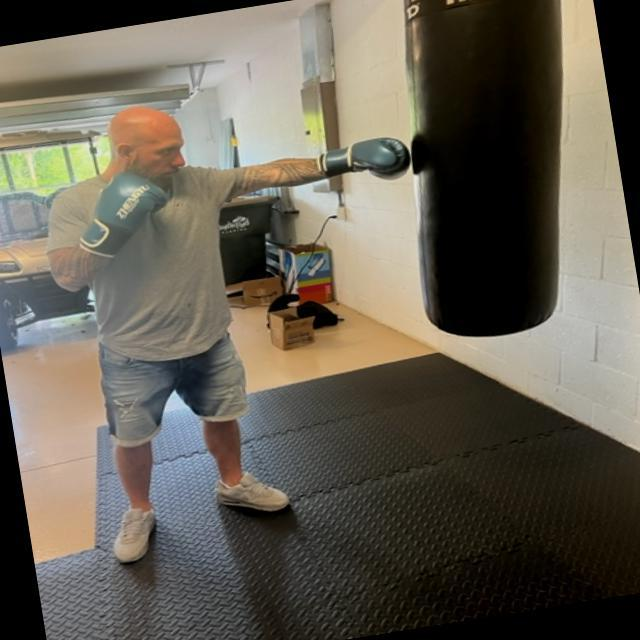jab: (26, 45, 452, 282)
